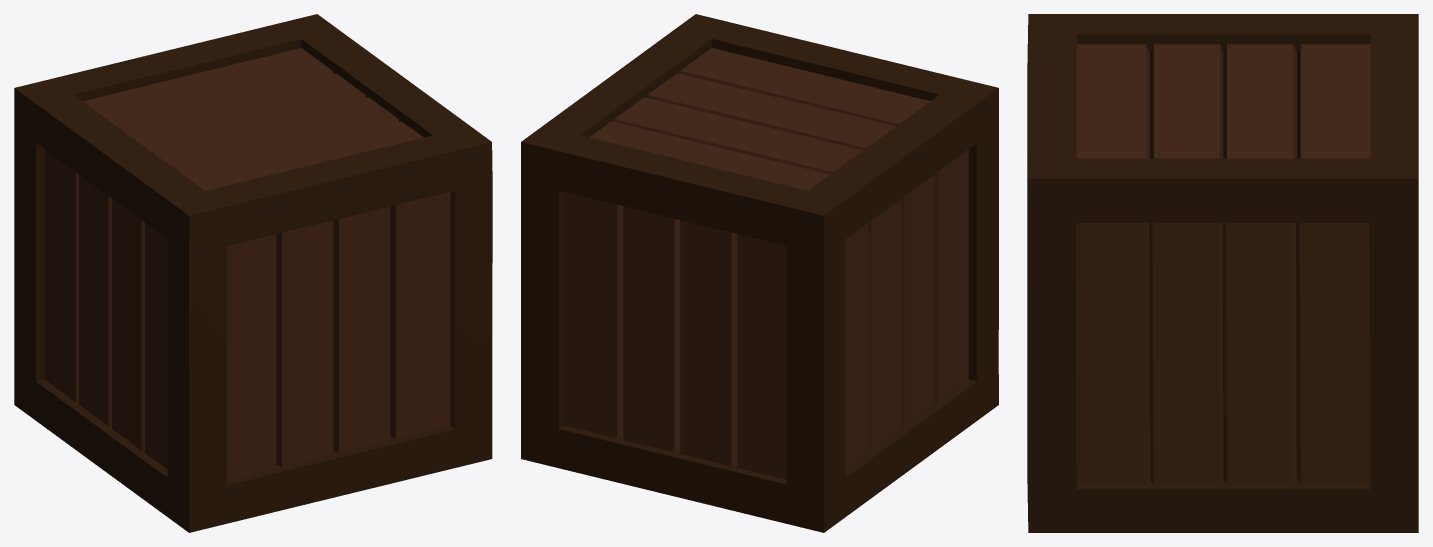
Rendered from Crate_final.FBX.
3 views of the same model, side by side, from view 1: azimuth 30°, elevation 25°; view 2: azimuth 150°, elevation 25°; view 3: azimuth 270°, elevation 25° (orthographic). The views are drawn at different scales.
Visible parts, largest first — view 1: Crate, Crate frame; view 2: Crate, Crate frame; view 3: Crate, Crate frame.
Part boxes in pixels (x1,y1,x2,y2): Crate: (44, 48, 455, 479); Crate frame: (14, 14, 492, 532); Crate: (563, 48, 968, 479); Crate frame: (521, 14, 998, 532); Crate: (1075, 44, 1370, 484); Crate frame: (1027, 14, 1418, 532).
Size of the model in its own units: 106 by 106 by 106.
